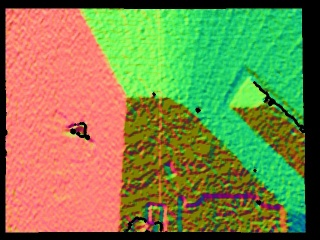station: (145, 202, 167, 232)
